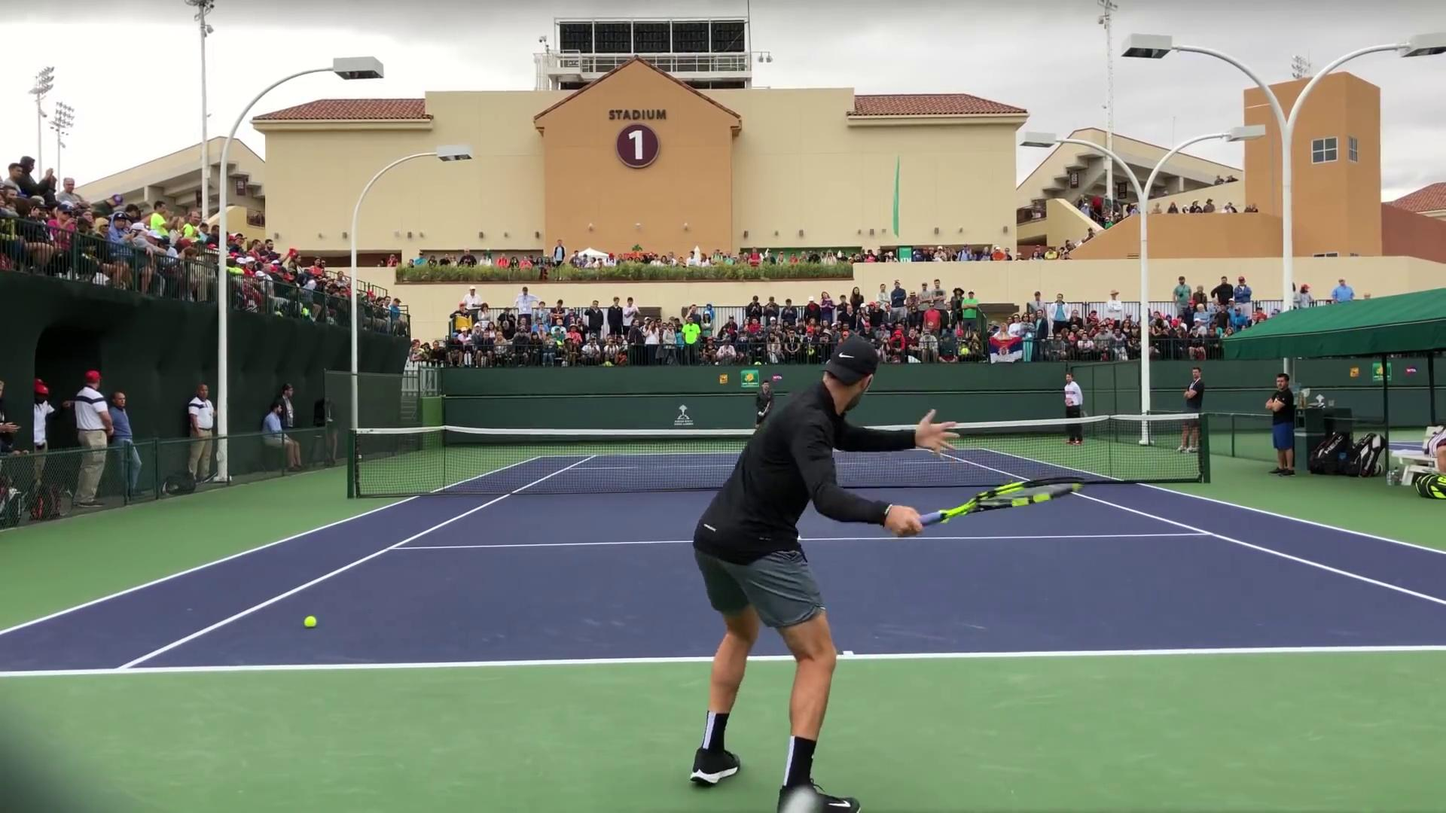ball: (302, 615, 318, 629)
